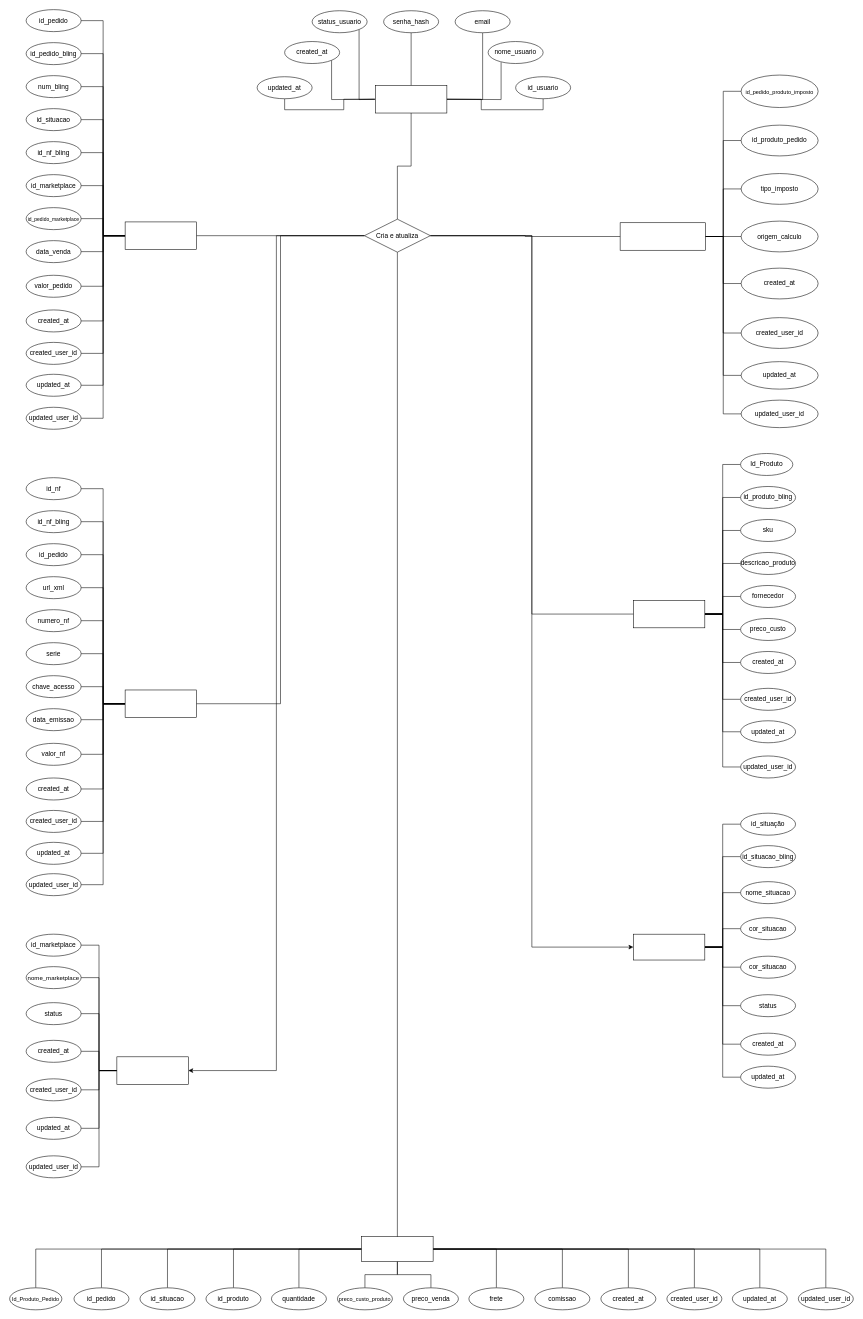
The diagram is 863 pixels wide and 1319 high, and some of its shapes have lost their labels. The centre of each missing label's shape, as x and y in pixels:
Marketplace: (152,1070)
Nota_Fiscal: (161,703)
Pedido: (161,235)
Produto: (669,614)
Produto_Pedido: (397,1248)
Produto_Pedido_Imposto: (662,236)
Situação_Bling_Pedido: (669,947)
Usuario: (411,99)
